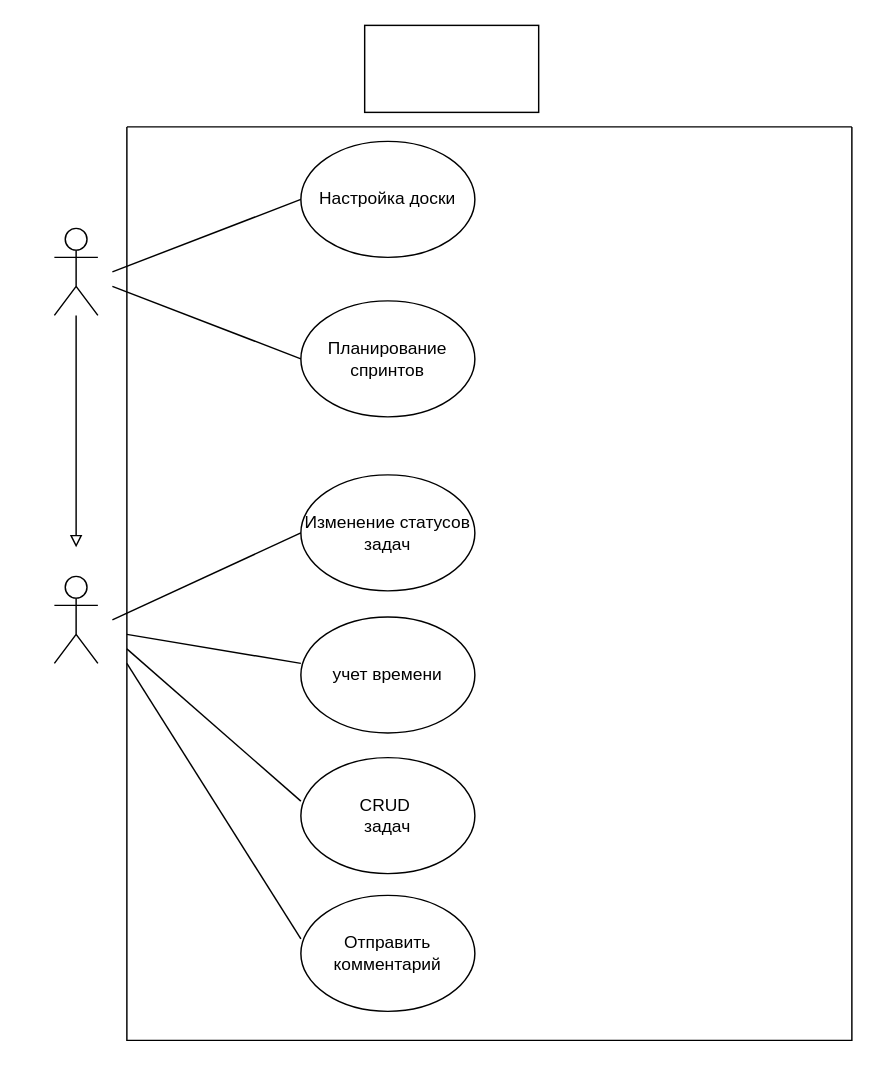
This 877x1066 diagram has some shape labels left out. The box of each missing label's shape, as (x1, y1, x2, y2) in pixels:
Jira: (363, 24, 539, 112)
Менаджер: (53, 227, 98, 315)
Разработчик: (53, 575, 98, 663)
